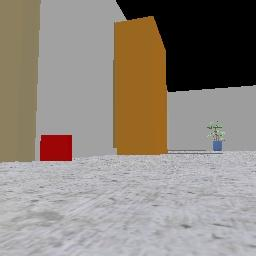planta: (207, 122, 224, 150)
rosu: (40, 135, 71, 160)
tonomat: (113, 17, 165, 154)
